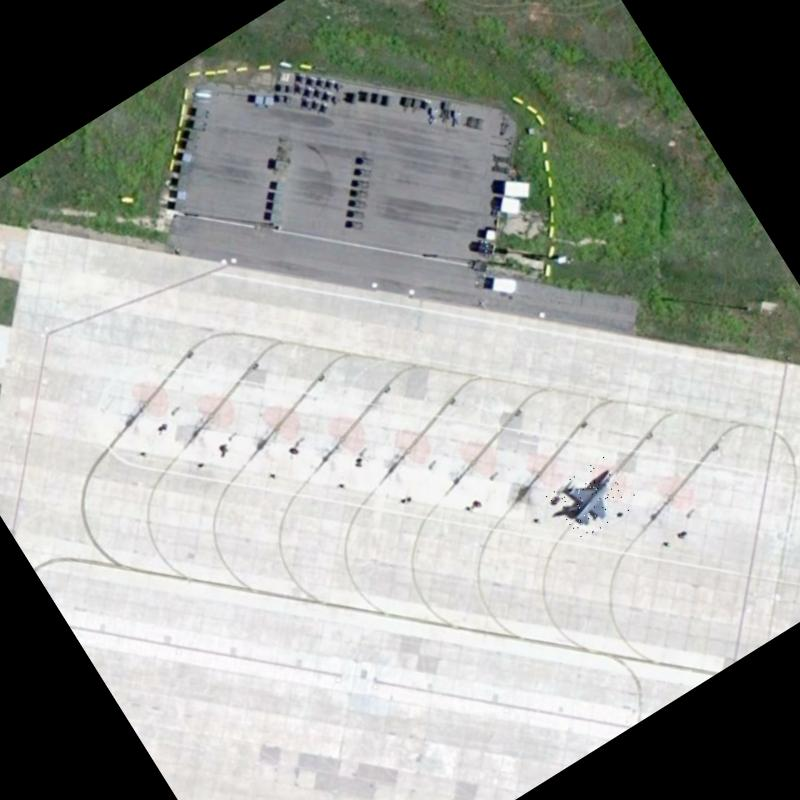A5: (544, 454, 640, 544)
